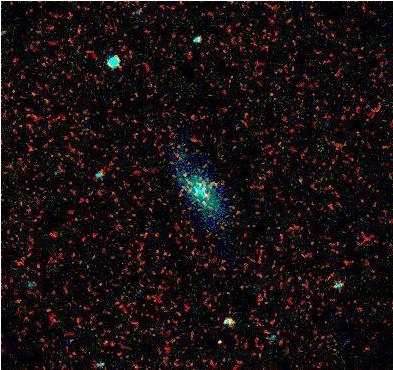star: (169, 161, 199, 191)
